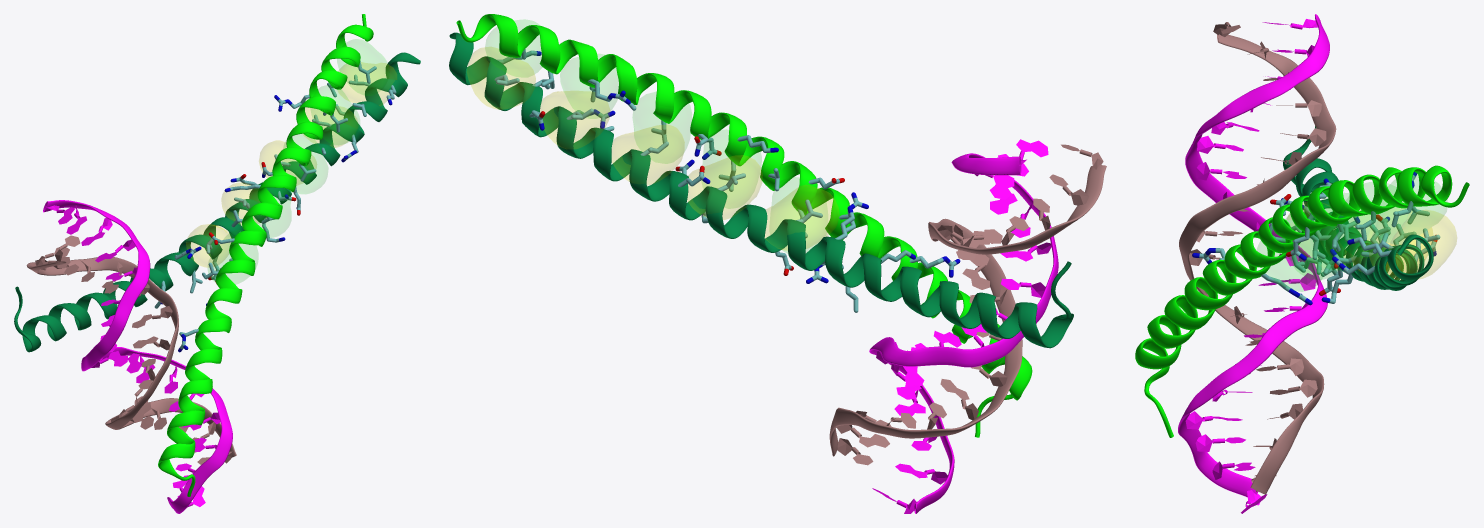
3 renders of one model, left to right at view 1: azimuth 30°, elevation 25°; view 2: azimuth 150°, elevation 25°; view 3: azimuth 270°, elevation 25°, orthographic. The views are drawn at different scales.
Visible parts, largest first — view 1: 5t01-qs-scobjcleanermaterialmergergles; view 2: 5t01-qs-scobjcleanermaterialmergergles; view 3: 5t01-qs-scobjcleanermaterialmergergles.
Part boxes in pixels (<box>): 5t01-qs-scobjcleanermaterialmergergles: <box>14,14,420,513</box>; 5t01-qs-scobjcleanermaterialmergergles: <box>449,14,1106,513</box>; 5t01-qs-scobjcleanermaterialmergergles: <box>1135,14,1469,513</box>.
Size of the model in its own units: 2.43 by 1.95 by 1.2.
